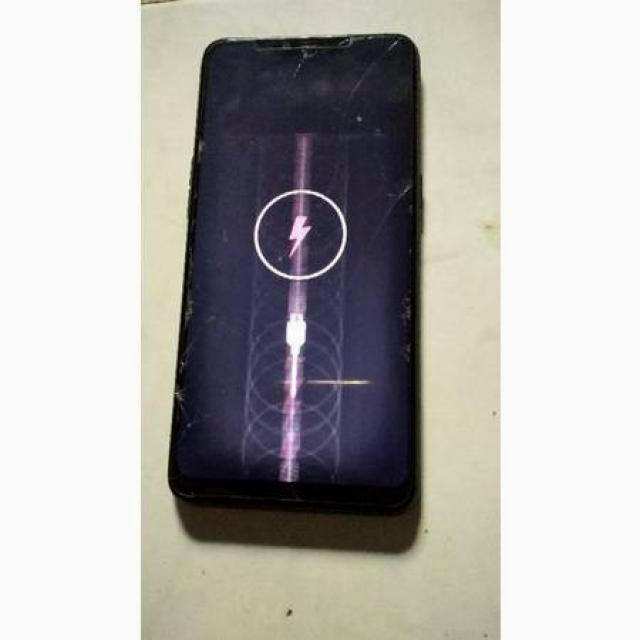phone: (163, 18, 416, 516)
